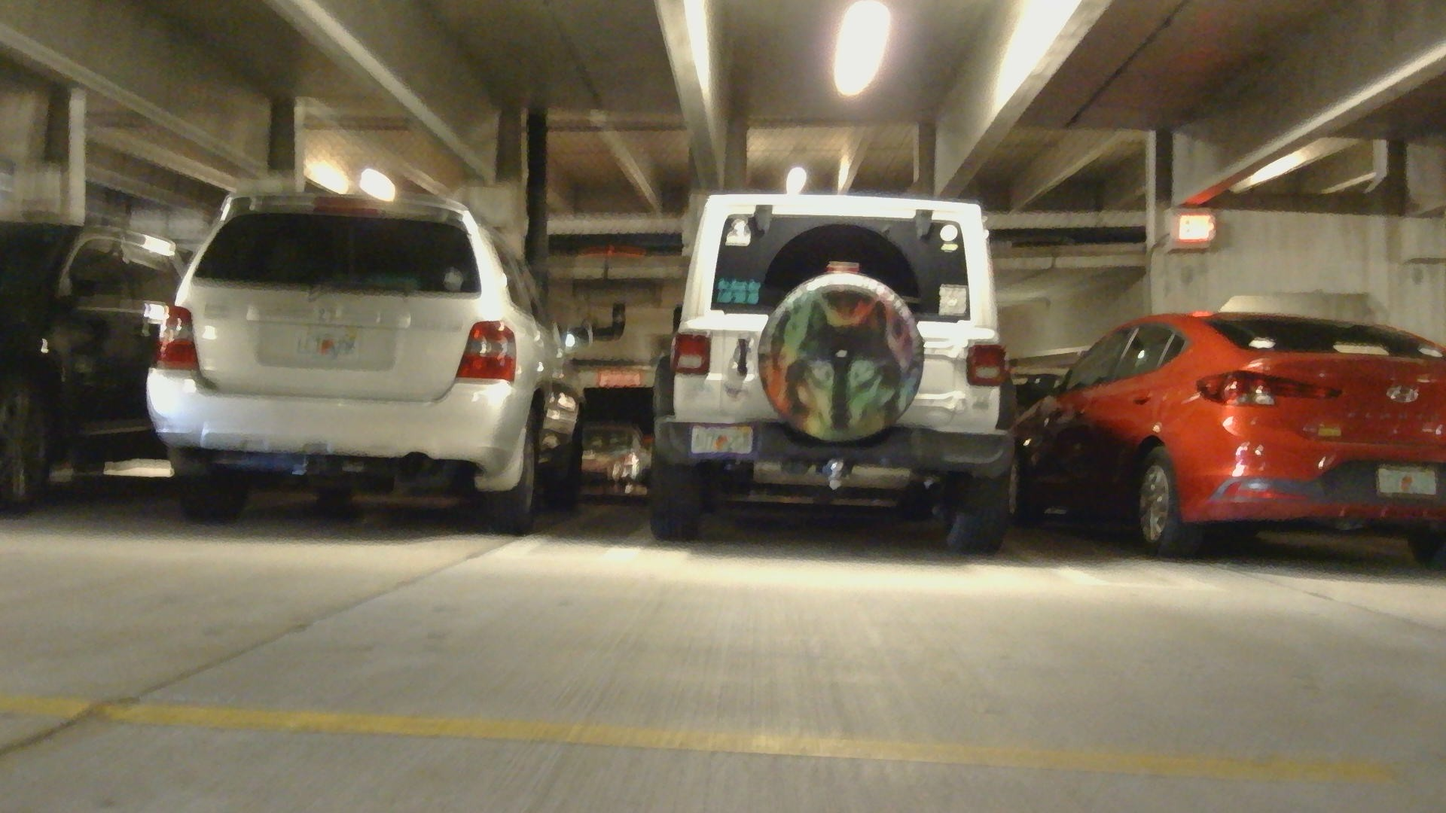occupied_spot: (142, 191, 610, 551), (632, 185, 1027, 561), (1020, 309, 1446, 562), (0, 215, 188, 526)
